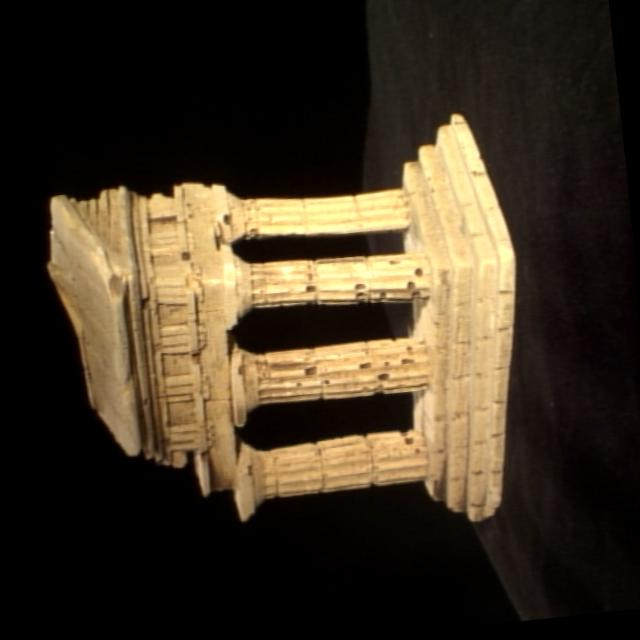Instance-Segmentation: (49, 114, 514, 520)
